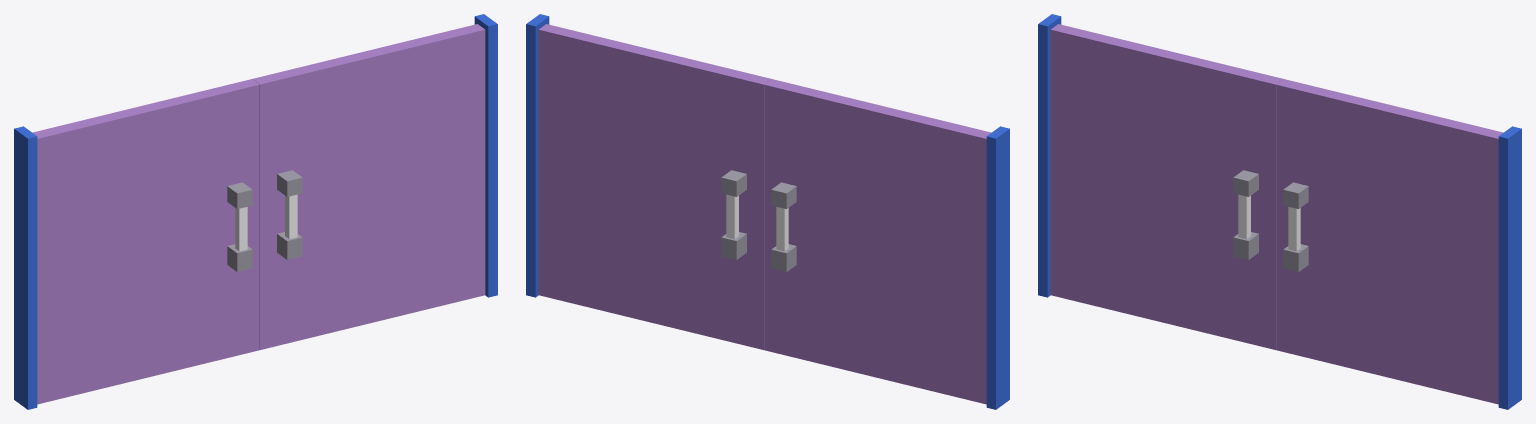
File: Door_01 (1).fbx
3 renders of one model, left to right at view 1: azimuth 30°, elevation 25°; view 2: azimuth 150°, elevation 25°; view 3: azimuth 330°, elevation 25°, orthographic.
Visible parts, largest first — view 1: Part_01_1, Part_01_2; view 2: Part_01_1, Part_01_2; view 3: Part_01_2, Part_01_1.
Part boxes in pixels (bbox=[...]): Part_01_1: bbox=[14, 79, 259, 409]; Part_01_2: bbox=[252, 14, 497, 349]; Part_01_1: bbox=[764, 79, 1009, 409]; Part_01_2: bbox=[526, 14, 771, 349]; Part_01_2: bbox=[1276, 79, 1521, 409]; Part_01_1: bbox=[1038, 14, 1283, 349].
Bounding box in the file's own units: 406 × 224 × 41.84.
Materials: 1 (1 with a texture image).
